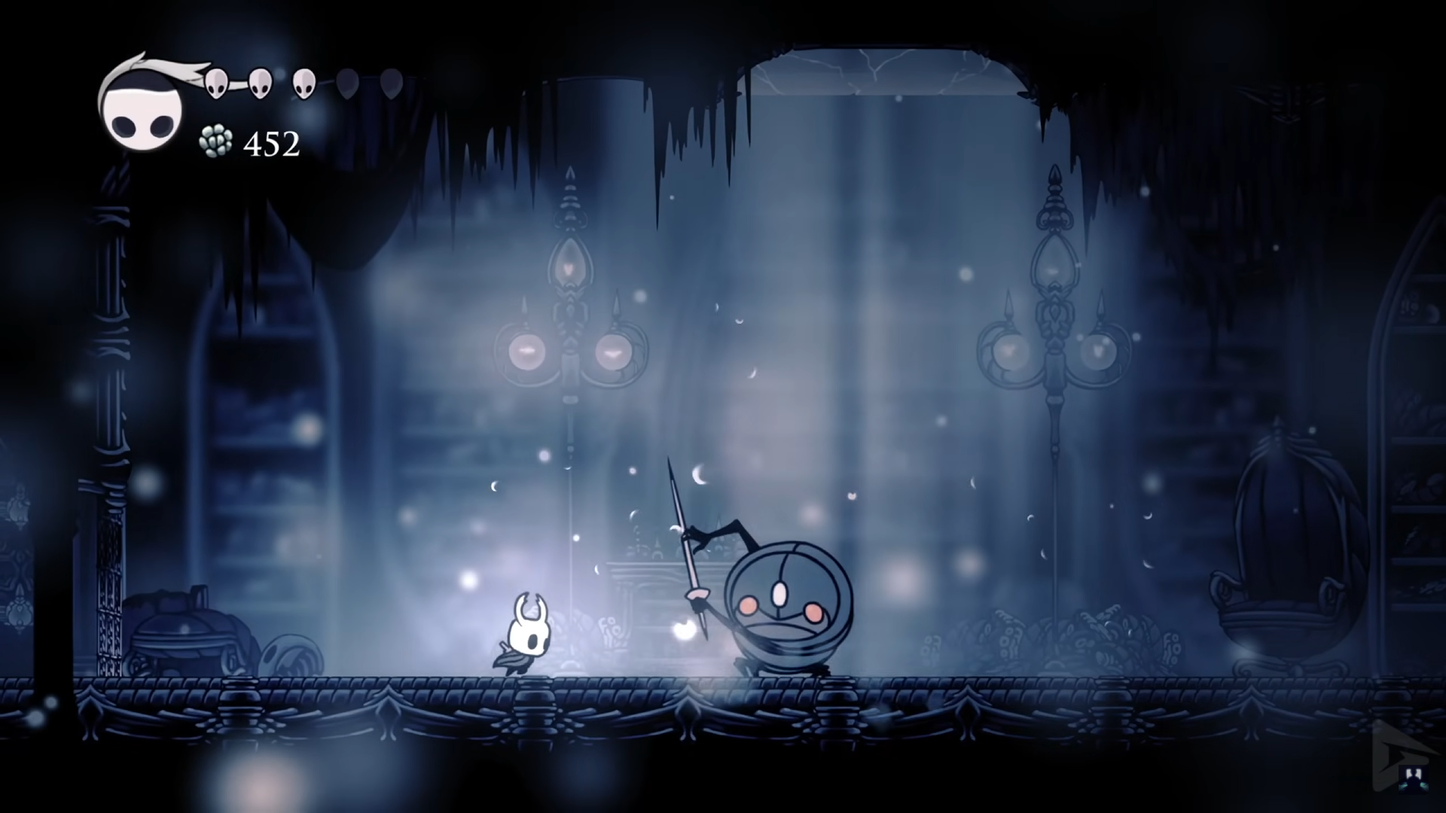HK: (492, 592, 557, 678)
